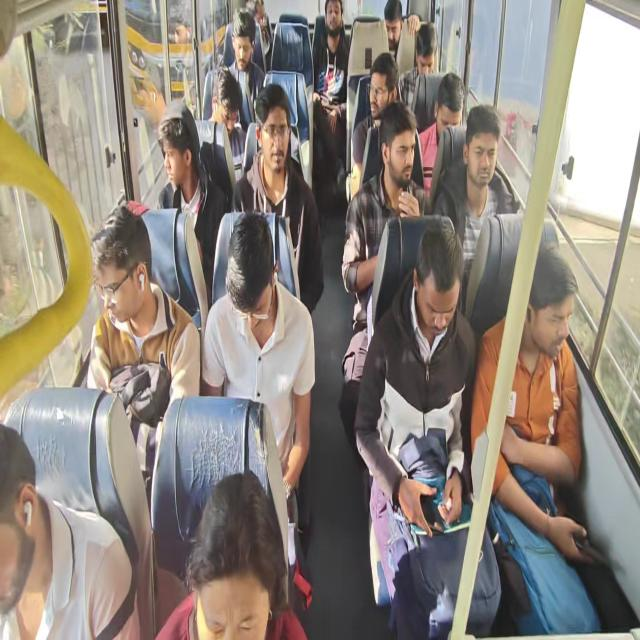person: (178, 469, 292, 640), (95, 228, 168, 362), (0, 420, 44, 631), (522, 255, 575, 362), (415, 226, 460, 344), (226, 228, 274, 328), (383, 111, 421, 190), (257, 92, 293, 170), (162, 119, 197, 187), (362, 54, 396, 116), (468, 116, 498, 180), (439, 71, 462, 146), (226, 26, 260, 73), (210, 78, 237, 128), (240, 0, 271, 43), (415, 28, 437, 82), (384, 7, 404, 51), (323, 5, 348, 36)
